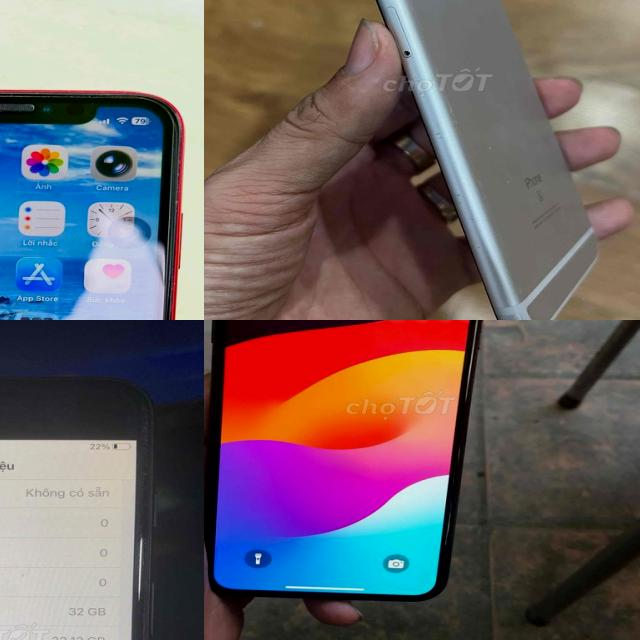scratch: (422, 68, 474, 142), (456, 192, 498, 264), (484, 142, 536, 198), (138, 396, 152, 485)
